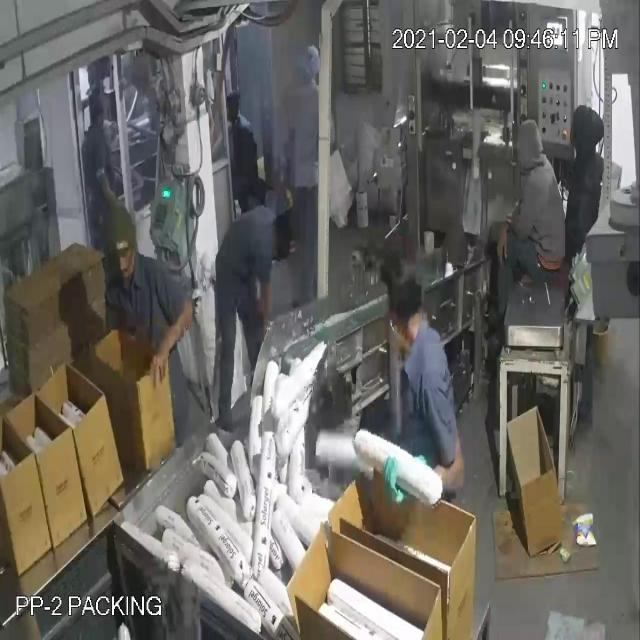No_Gloves: (28, 72, 507, 478)
